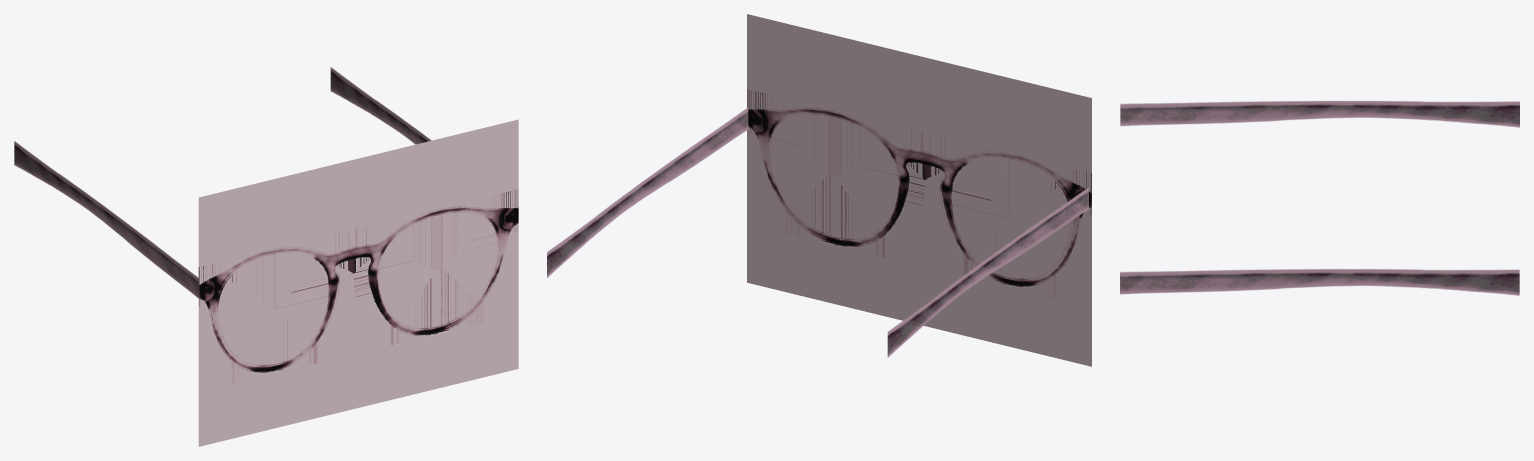
Rendered from angel-4.glb.
3 renders of one model, left to right at view 1: azimuth 30°, elevation 25°; view 2: azimuth 150°, elevation 25°; view 3: azimuth 270°, elevation 25°, orthographic. The views are drawn at different scales.
Parts seen in each view (by area): view 1: Front, Right, Left; view 2: Front, Left, Right; view 3: Left, Right.
Boxes of the visible parts, <box> form: Front: <box>198,119,518,446</box>; Right: <box>14,141,198,298</box>; Left: <box>330,67,431,144</box>; Front: <box>747,14,1091,366</box>; Left: <box>547,107,748,278</box>; Right: <box>887,187,1088,357</box>; Left: <box>1120,269,1519,295</box>; Right: <box>1120,101,1519,127</box>.
Bounding box in the file's own units: 146 × 109 × 148.
4 materials, 4 textured.
